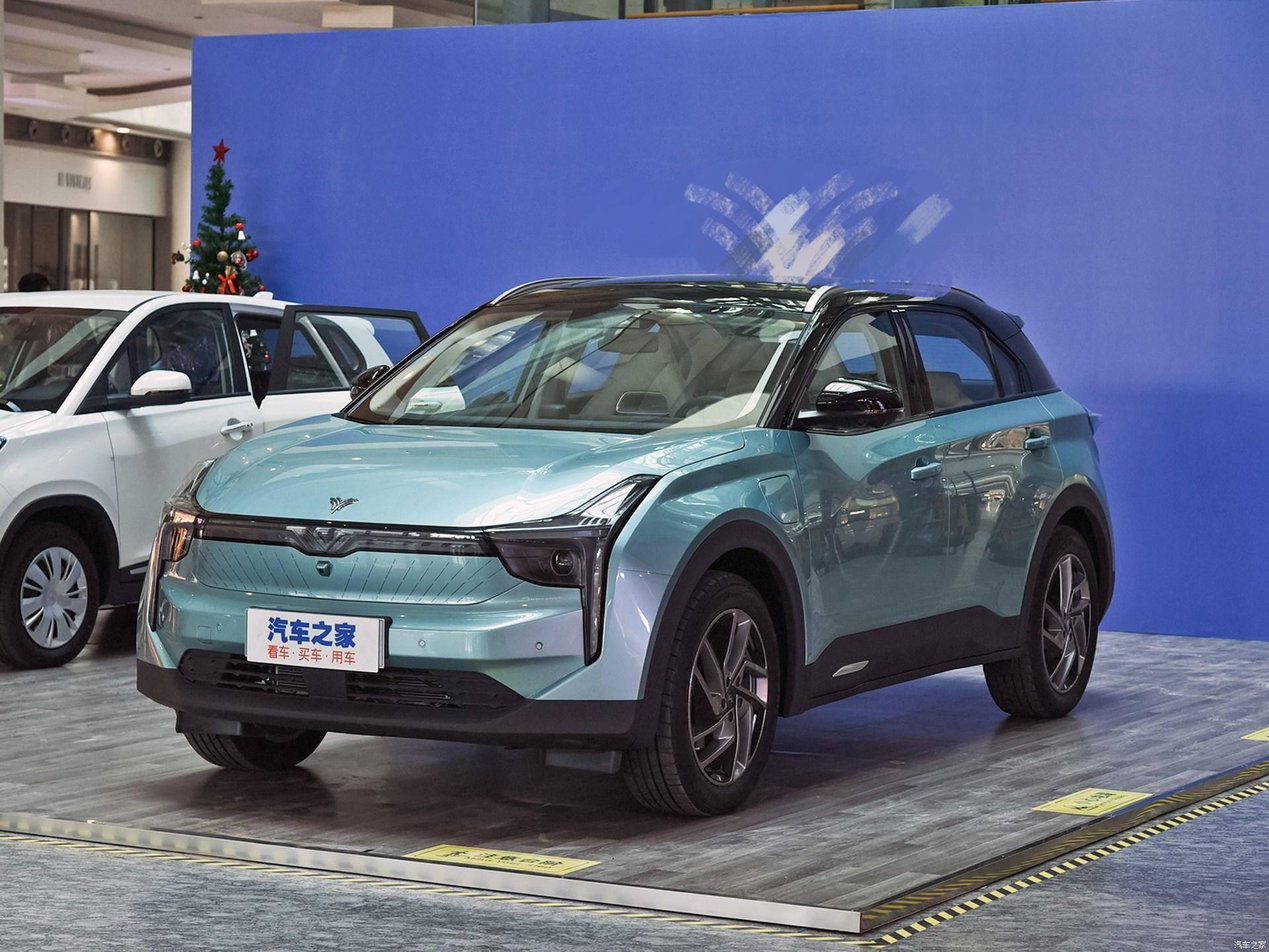NETA: (328, 496, 362, 515)
